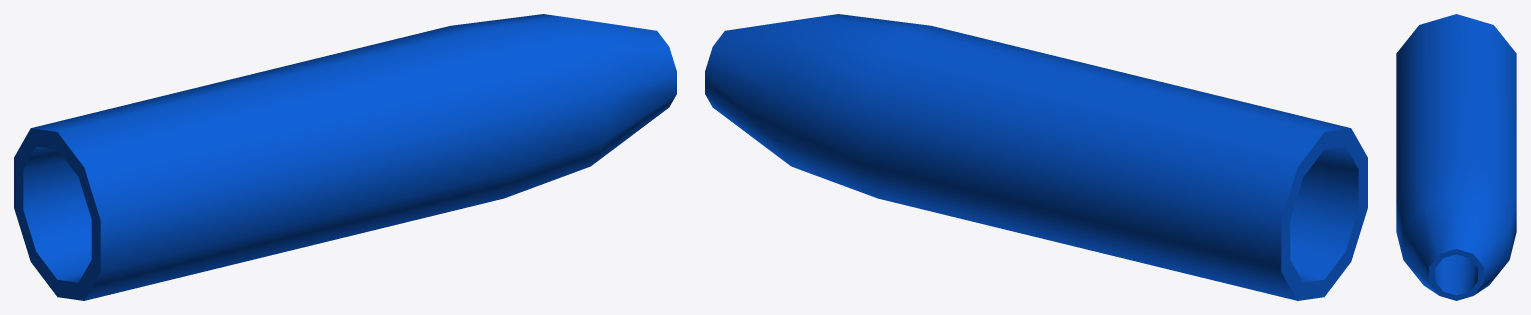
The model's file is kyappu.fbx.
The picture shows the model from 3 angles, left to right: view 1: azimuth 30°, elevation 25°; view 2: azimuth 150°, elevation 25°; view 3: azimuth 270°, elevation 25°; orthographic projection. The views are drawn at different scales.
Visible parts, largest first — view 1: kyappu; view 2: kyappu; view 3: kyappu.
Part boxes in pixels (x1,y1,x2,y2): kyappu: [14, 14, 676, 300]; kyappu: [705, 14, 1367, 300]; kyappu: [1396, 14, 1516, 300].
Size of the model in its own units: 50.99 by 13.41 by 12.76.
Materials: 1 (1 with a texture image).
